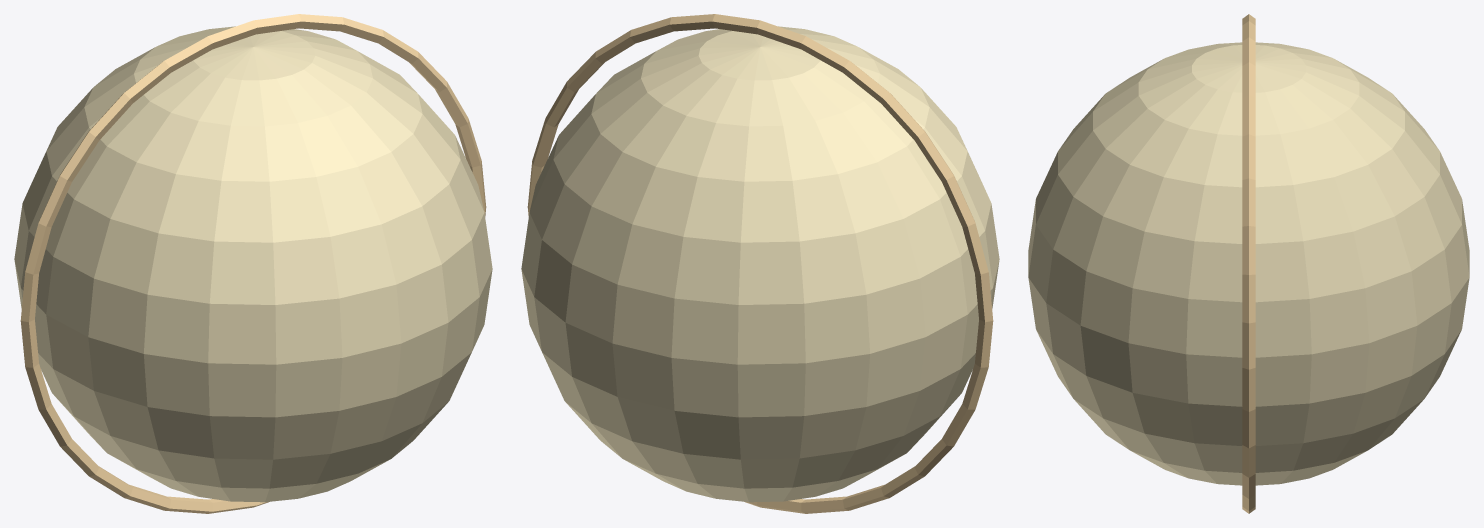
The model's file is sol.glb.
The picture shows the model from 3 angles, left to right: view 1: azimuth 30°, elevation 25°; view 2: azimuth 150°, elevation 25°; view 3: azimuth 270°, elevation 25°; orthographic projection. The views are drawn at different scales.
Parts seen in each view (by area): view 1: sol; view 2: sol; view 3: sol.
Boxes of the visible parts, bbox=[...] form: sol: bbox=[14, 14, 492, 513]; sol: bbox=[521, 14, 999, 513]; sol: bbox=[1028, 14, 1469, 513].
Bounding box in the file's own units: 24.7 × 24.7 × 21.78.
